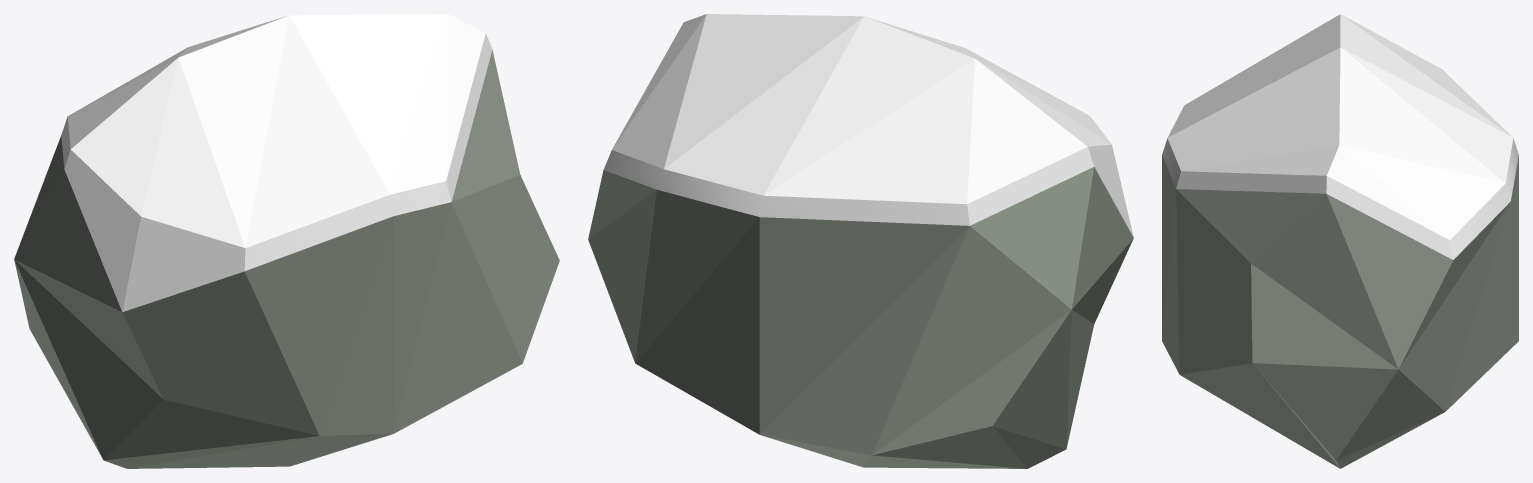
File: Rock_Dark_Snow_3.fbx
The picture shows the model from 3 angles, left to right: view 1: azimuth 30°, elevation 25°; view 2: azimuth 150°, elevation 25°; view 3: azimuth 270°, elevation 25°; orthographic projection. The views are drawn at different scales.
Visible parts, largest first — view 1: Rock_Dark_Snow_3; view 2: Rock_Dark_Snow_3; view 3: Rock_Dark_Snow_3.
Boxes of the visible parts, <box> form: Rock_Dark_Snow_3: <box>14,14,559,468</box>; Rock_Dark_Snow_3: <box>588,14,1133,468</box>; Rock_Dark_Snow_3: <box>1162,14,1518,468</box>.
Bounding box in the file's own units: 2.32 × 2.07 × 1.73.
